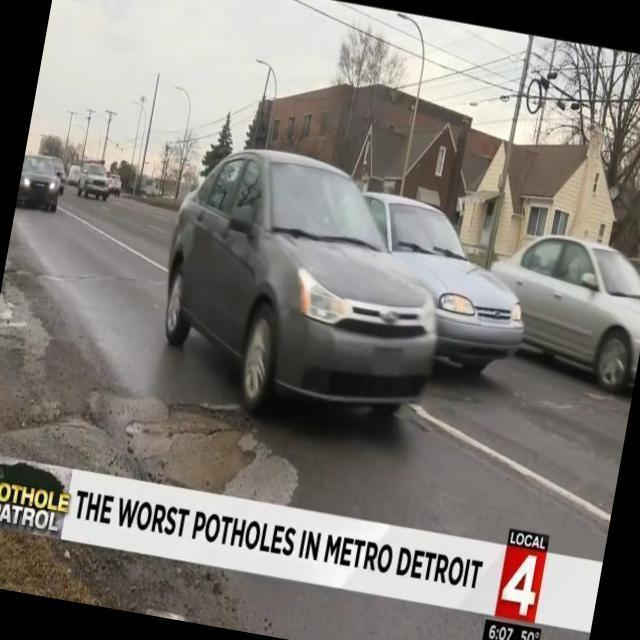Pothole: (94, 394, 296, 506)
